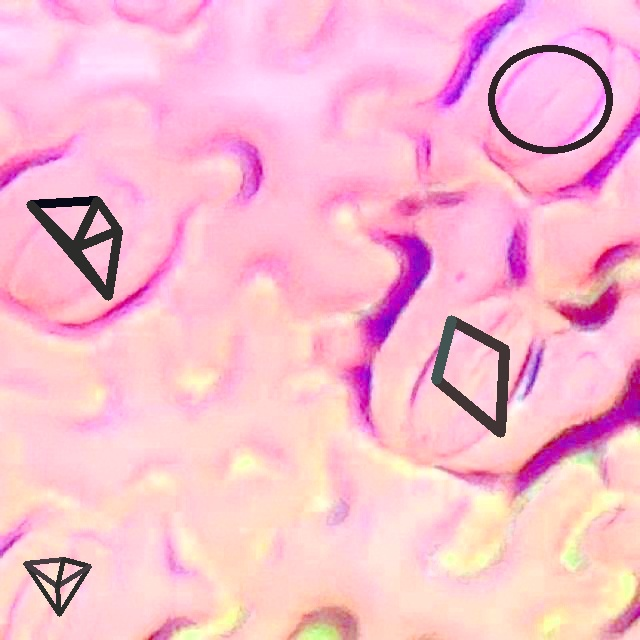close: (487, 44, 613, 153), (26, 197, 122, 299), (431, 316, 509, 436)
open: (23, 557, 91, 616)
